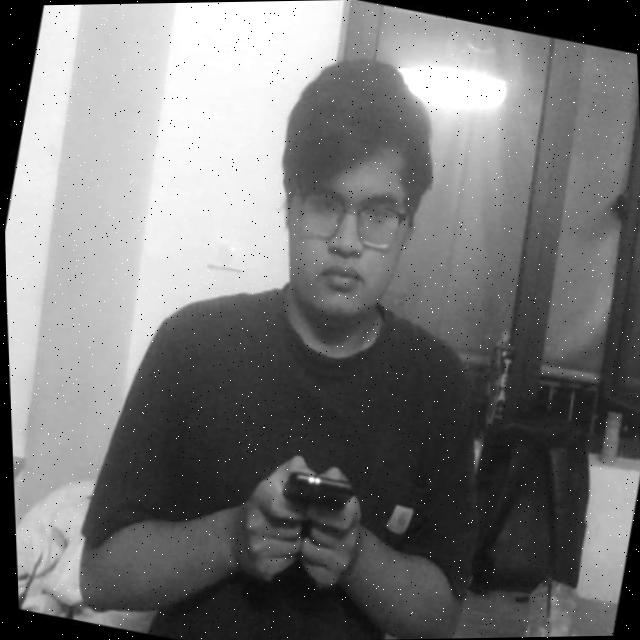phone: (264, 444, 369, 538)
